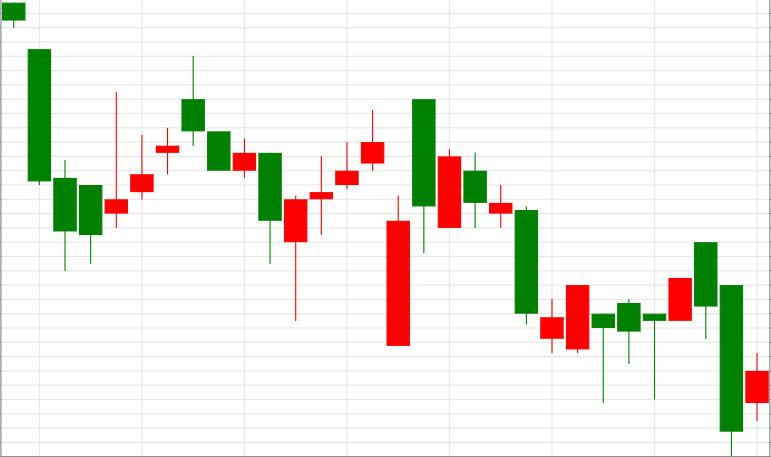shooting_star_fall: (80, 57, 205, 264)
